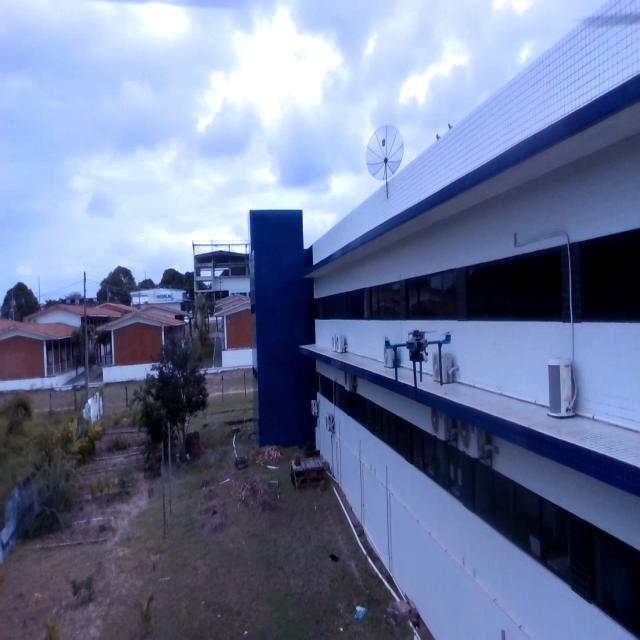-uav-: (378, 314, 462, 407)
